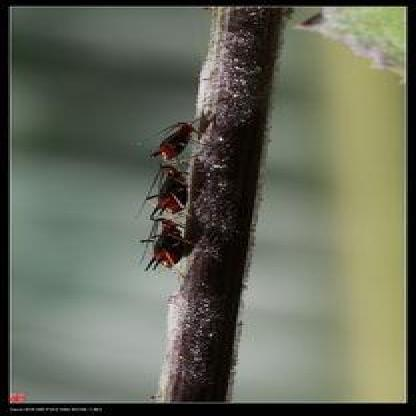aphid: (135, 159, 215, 220), (145, 211, 207, 275), (150, 113, 215, 162)
